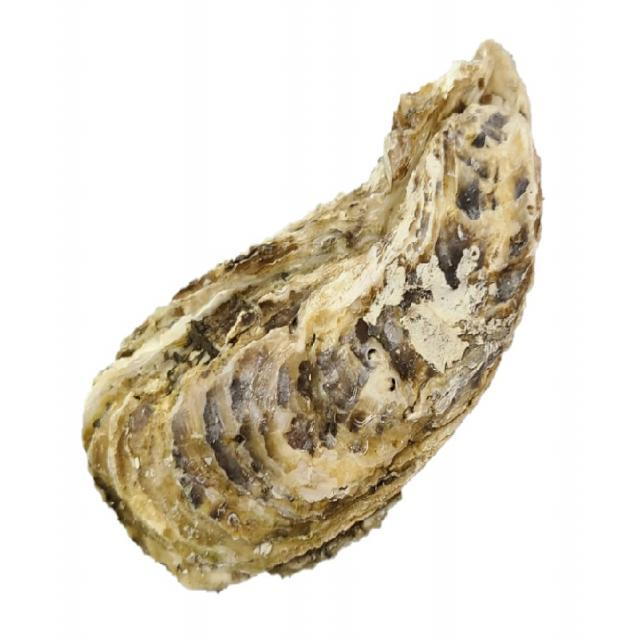Oyster- Indeterminate: (80, 39, 544, 595)
